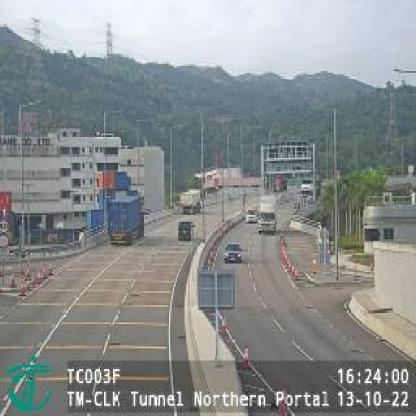Car: (224, 240, 243, 263), (177, 219, 194, 242), (244, 208, 257, 226)
Truck: (110, 188, 144, 246), (258, 197, 276, 231)
